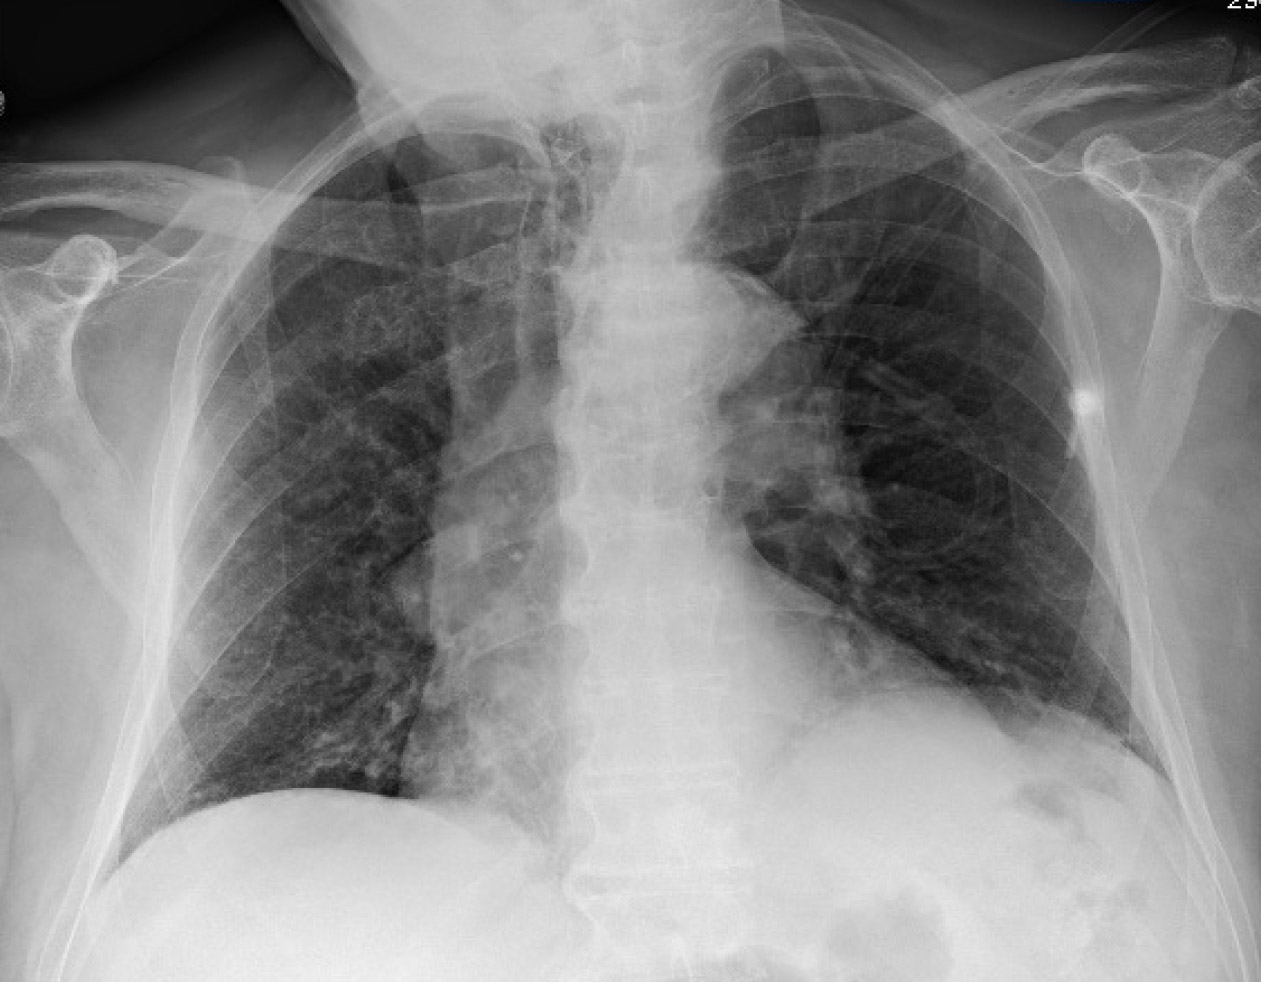Mildw: (114, 112, 581, 862), (710, 52, 1158, 756)
